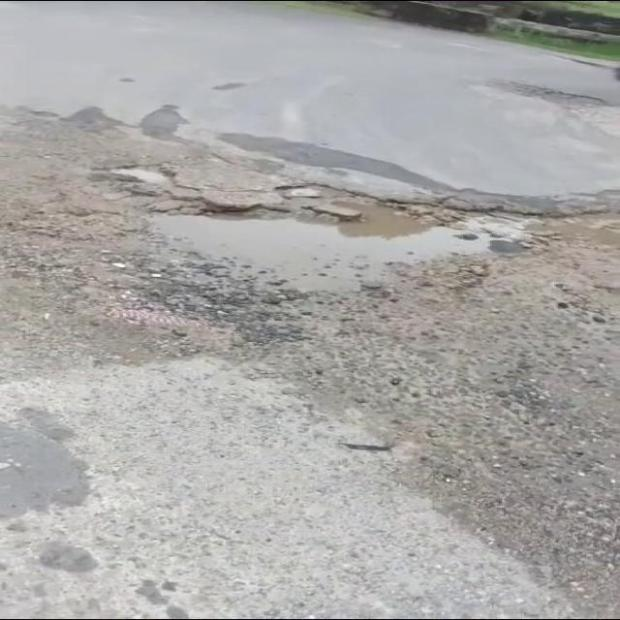lubang: (149, 192, 619, 292), (91, 167, 201, 202)
